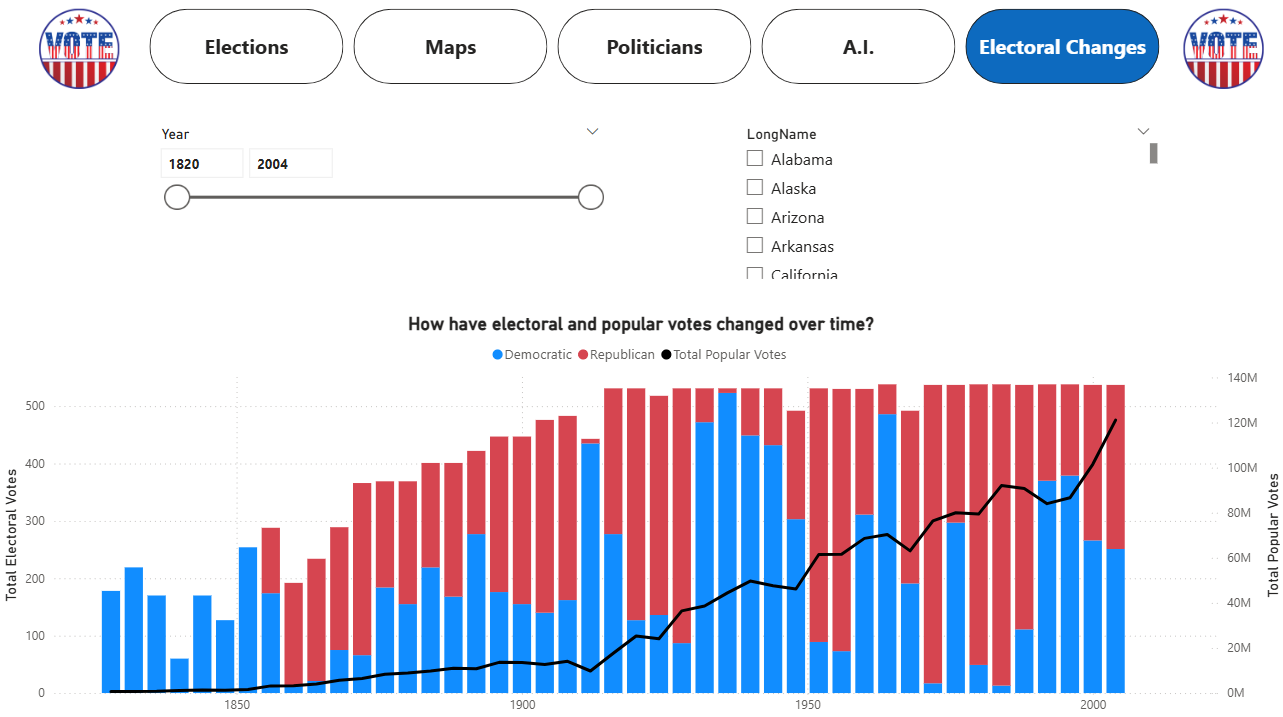

The dashboard page shown, as its layout file describes it:
{"tool":"powerbi","page":{"name":"Electoral Changes","canvas":[1280,720],"ordinal":4},"visuals":[{"type":"pageNavigator","box":[150,10,1008.6,75],"z":0},{"type":"image","box":[1158.6,10,121.4,80],"z":1000},{"type":"image","box":[20,10,121.4,80],"z":2000},{"type":"lineStackedColumnComboChart","title":"How have electoral and popular votes changed over time?","fields":{"Category":["Date (Dim).Year"],"Y":["Election Results (Fact).Total Electoral Votes"],"Y2":["Election Results (Fact).Total Popular Votes"],"Series":["Political Party (Dim).PartyName"]},"box":[0,312.8,1280.4,408.3],"z":3000},{"type":"slicer","fields":{"Values":["State (Dim).LongName"]},"box":[731.7,121.9,426.8,163],"z":4000},{"type":"slicer","fields":{"Values":["Date (Dim).Year"]},"box":[149.8,121.9,461.3,163],"z":5000}]}

Visuals, with their boxes in screenshot pixels (x1, y1, x2, y2), scaled from the page's 1280x720 canvas onto the 1283x717 screenshot:
pageNavigator: BBox(150, 10, 1161, 85)
image: BBox(1161, 10, 1282, 90)
image: BBox(20, 10, 142, 90)
"How have electoral and popular votes changed over time?" lineStackedColumnComboChart: BBox(0, 311, 1282, 716)
slicer - State (Dim).LongName: BBox(733, 121, 1161, 284)
slicer - Date (Dim).Year: BBox(150, 121, 613, 284)
